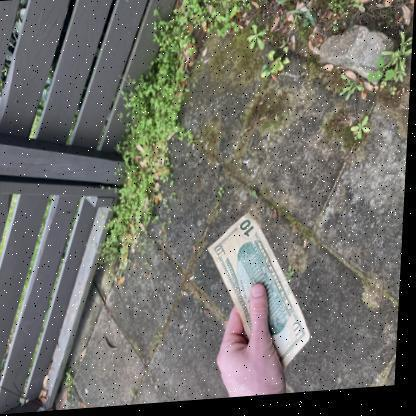ten-back: (210, 212, 317, 388)
